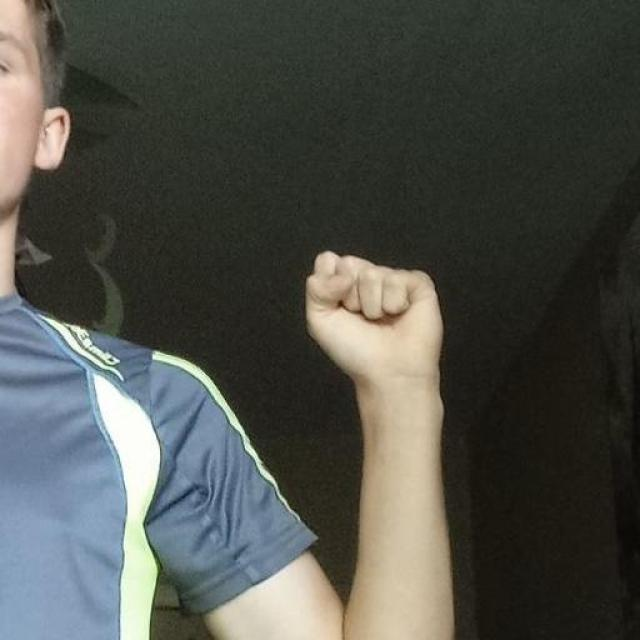hand: (304, 248, 444, 382)
